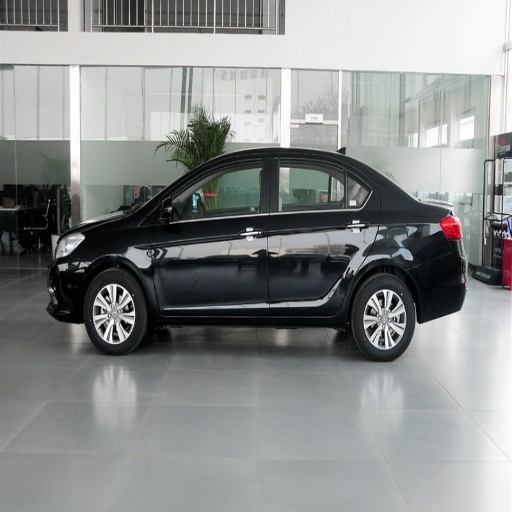back_left_door: (266, 150, 377, 310)
front_left_door: (155, 150, 271, 307)
